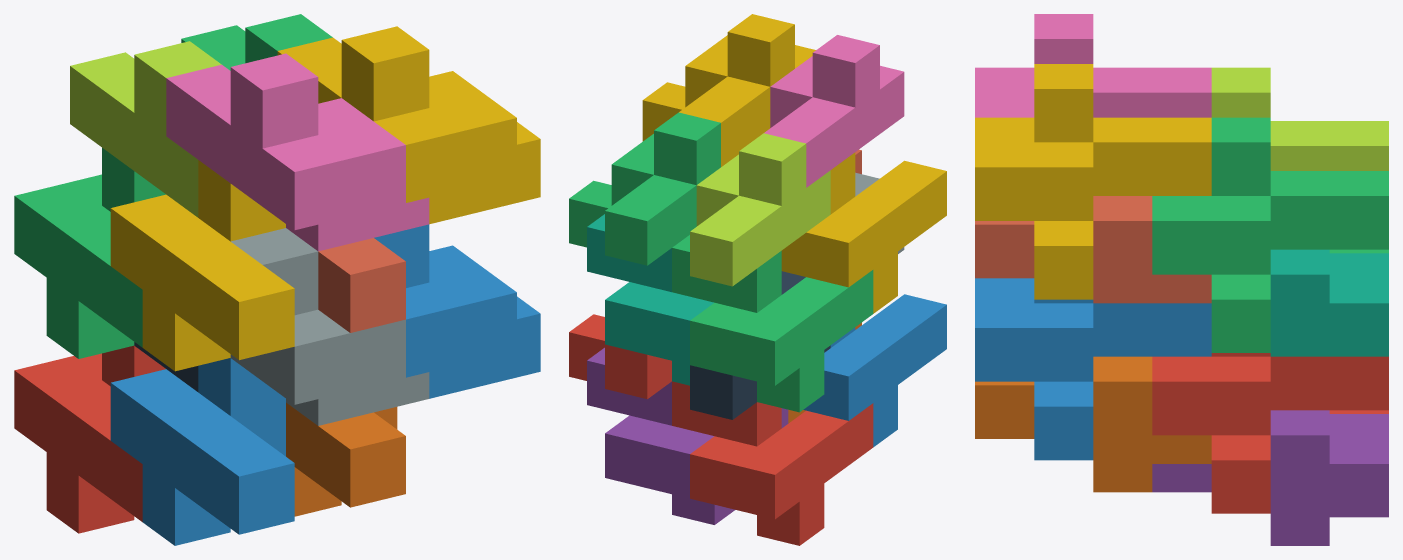
The model's file is tiling.obj.
3 views of the same model, side by side, from view 1: azimuth 30°, elevation 25°; view 2: azimuth 150°, elevation 25°; view 3: azimuth 270°, elevation 25° (orthographic). The views are drawn at different scales.
Visible parts, largest first — view 1: copy_2_domain_4, copy_1_domain_2, copy_1_domain_4, copy_2_domain_8, copy_1_domain_3, copy_1_domain_1, copy_2_domain_2, copy_2_domain_6, copy_2_domain_3, copy_1_domain_6, copy_1_domain_8, copy_2_domain_7; view 2: copy_1_domain_3, copy_1_domain_1, copy_2_domain_3, copy_2_domain_7, copy_1_domain_4, copy_2_domain_4, copy_2_domain_8, copy_1_domain_2, copy_1_domain_5, copy_1_domain_7, copy_2_domain_5, copy_2_domain_1; view 3: copy_2_domain_8, copy_2_domain_7, copy_2_domain_6, copy_2_domain_5, copy_1_domain_5, copy_1_domain_6, copy_1_domain_7, copy_2_domain_4, copy_1_domain_8, copy_2_domain_3.
Boxes of the visible parts, <box> form: copy_2_domain_4: <box>166,53,429,251</box>; copy_1_domain_2: <box>110,358,294,545</box>; copy_1_domain_4: <box>110,160,294,371</box>; copy_2_domain_8: <box>277,26,540,224</box>; copy_1_domain_3: <box>14,148,165,358</box>; copy_1_domain_1: <box>14,345,165,533</box>; copy_2_domain_2: <box>230,228,429,425</box>; copy_2_domain_6: <box>374,224,540,398</box>; copy_2_domain_3: <box>70,41,221,217</box>; copy_1_domain_6: <box>286,402,405,516</box>; copy_1_domain_8: <box>318,238,405,332</box>; copy_2_domain_7: <box>181,14,332,70</box>; copy_1_domain_3: <box>672,235,873,412</box>; copy_1_domain_1: <box>672,381,873,545</box>; copy_2_domain_3: <box>690,133,830,286</box>; copy_2_domain_7: <box>569,112,720,265</box>; copy_1_domain_4: <box>781,152,946,313</box>; copy_2_domain_4: <box>764,35,904,187</box>; copy_2_domain_8: <box>642,14,815,166</box>; copy_1_domain_2: <box>803,294,946,447</box>; copy_1_domain_5: <box>587,347,788,524</box>; copy_1_domain_7: <box>587,214,713,385</box>; copy_2_domain_5: <box>569,314,671,399</box>; copy_2_domain_1: <box>690,271,830,419</box>; copy_2_domain_8: <box>975,64,1211,299</box>; copy_2_domain_7: <box>1152,117,1388,352</box>; copy_2_domain_6: <box>975,278,1211,460</box>; copy_2_domain_5: <box>1152,353,1388,513</box>; copy_1_domain_5: <box>1152,410,1388,545</box>; copy_1_domain_6: <box>975,356,1211,492</box>; copy_1_domain_7: <box>1270,249,1388,356</box>; copy_2_domain_4: <box>975,14,1211,117</box>; copy_1_domain_8: <box>975,196,1211,303</box>; copy_2_domain_3: <box>1211,67,1388,170</box>.
Size of the model in its own units: 6 by 9 by 7.
